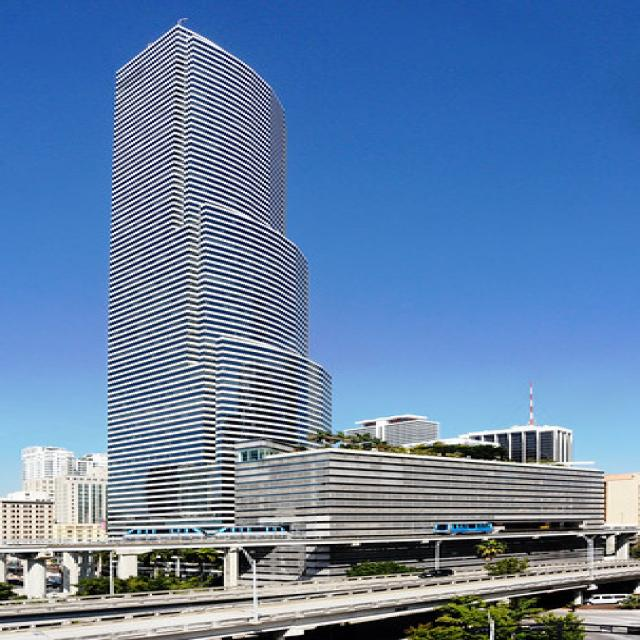Normal_building: (95, 18, 338, 552)
